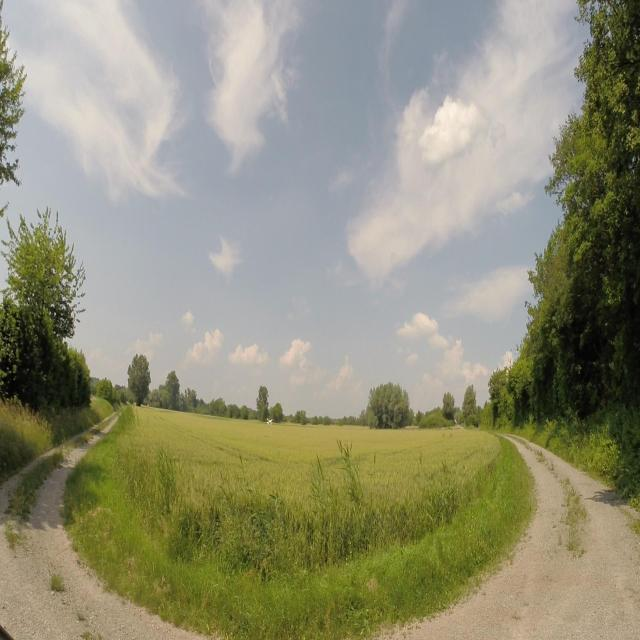drone: (266, 414, 274, 432)
